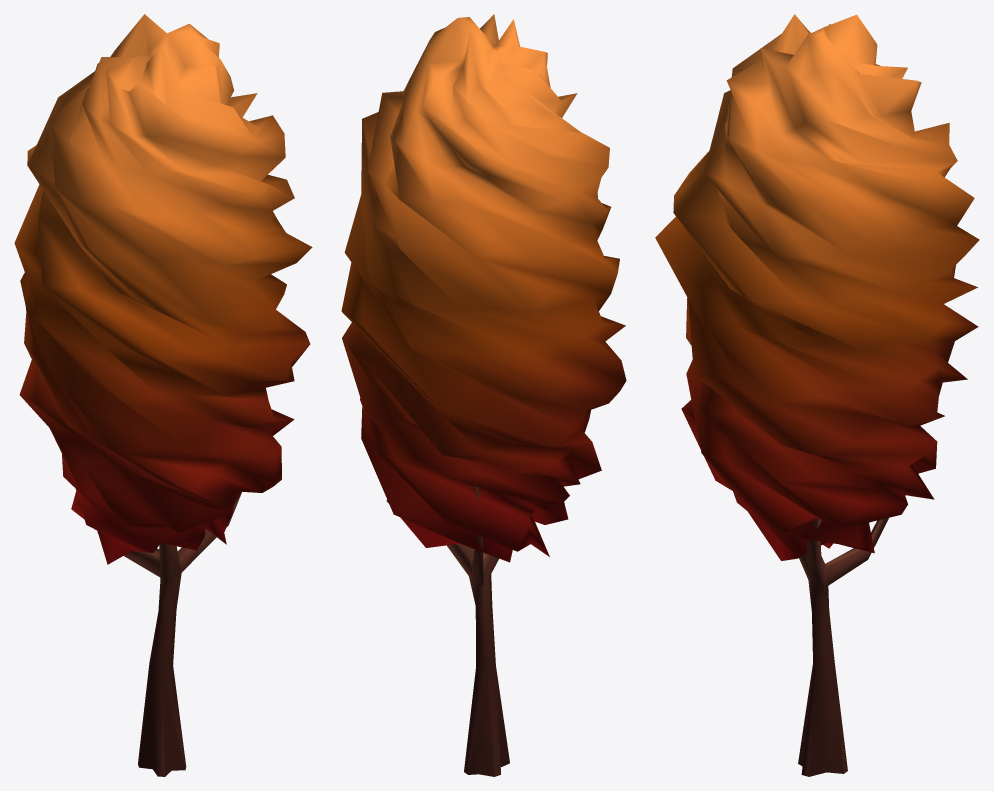
File: Tree_7F.fbx
The picture shows the model from 3 angles, left to right: view 1: azimuth 30°, elevation 25°; view 2: azimuth 150°, elevation 25°; view 3: azimuth 270°, elevation 25°; orthographic projection.
Parts seen in each view (by area): view 1: Tree_7F; view 2: Tree_7F; view 3: Tree_7F.
Part boxes in pixels (x1=…): Tree_7F: x1=14, y1=14, x2=312, y2=776; Tree_7F: x1=341, y1=14, x2=626, y2=776; Tree_7F: x1=655, y1=14, x2=979, y2=776.
Bounding box in the file's own units: 525 × 1485 × 580.
